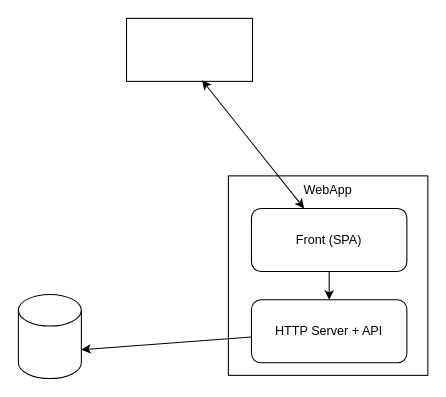
This 446x397 diagram has some shape labels left out. The centre of each missing label's shape, as x and y in pixels:
Browser: (x=189, y=49)
Redis: (x=49, y=336)
